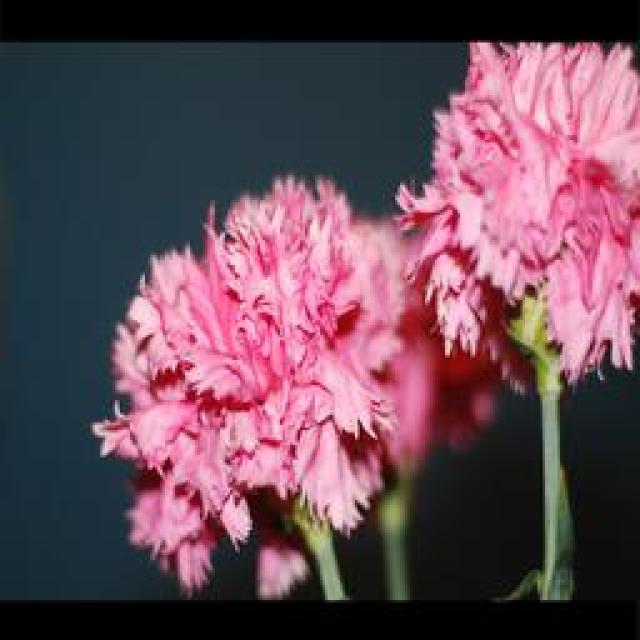carnation: (94, 194, 439, 565)
